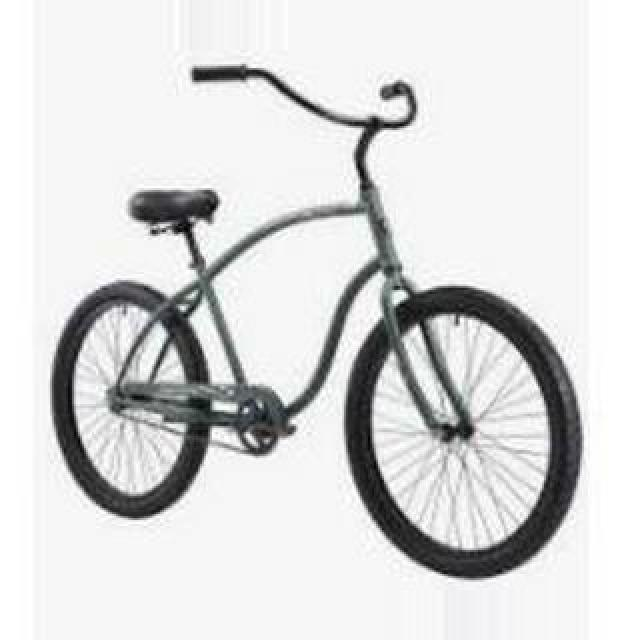Person: (48, 60, 586, 580)
